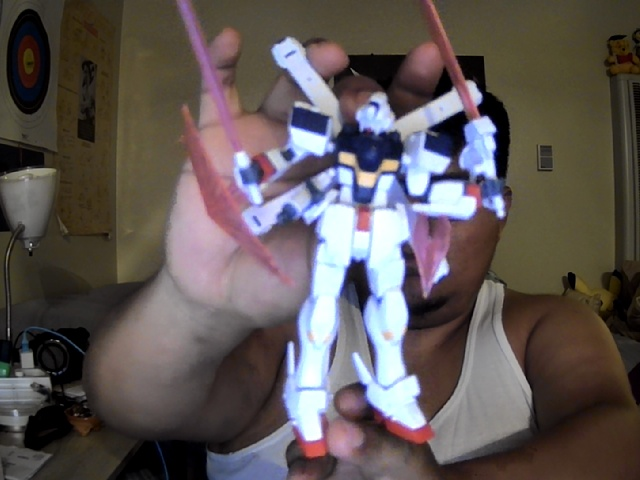Crossbones: (175, 2, 510, 460)
